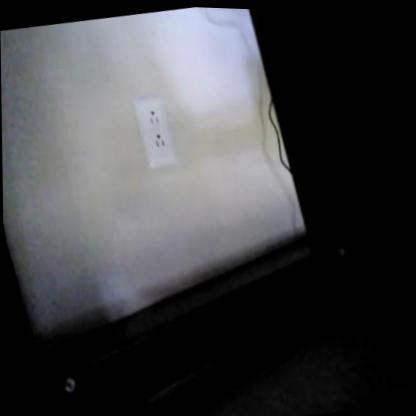OUTLET: (135, 95, 179, 172)
